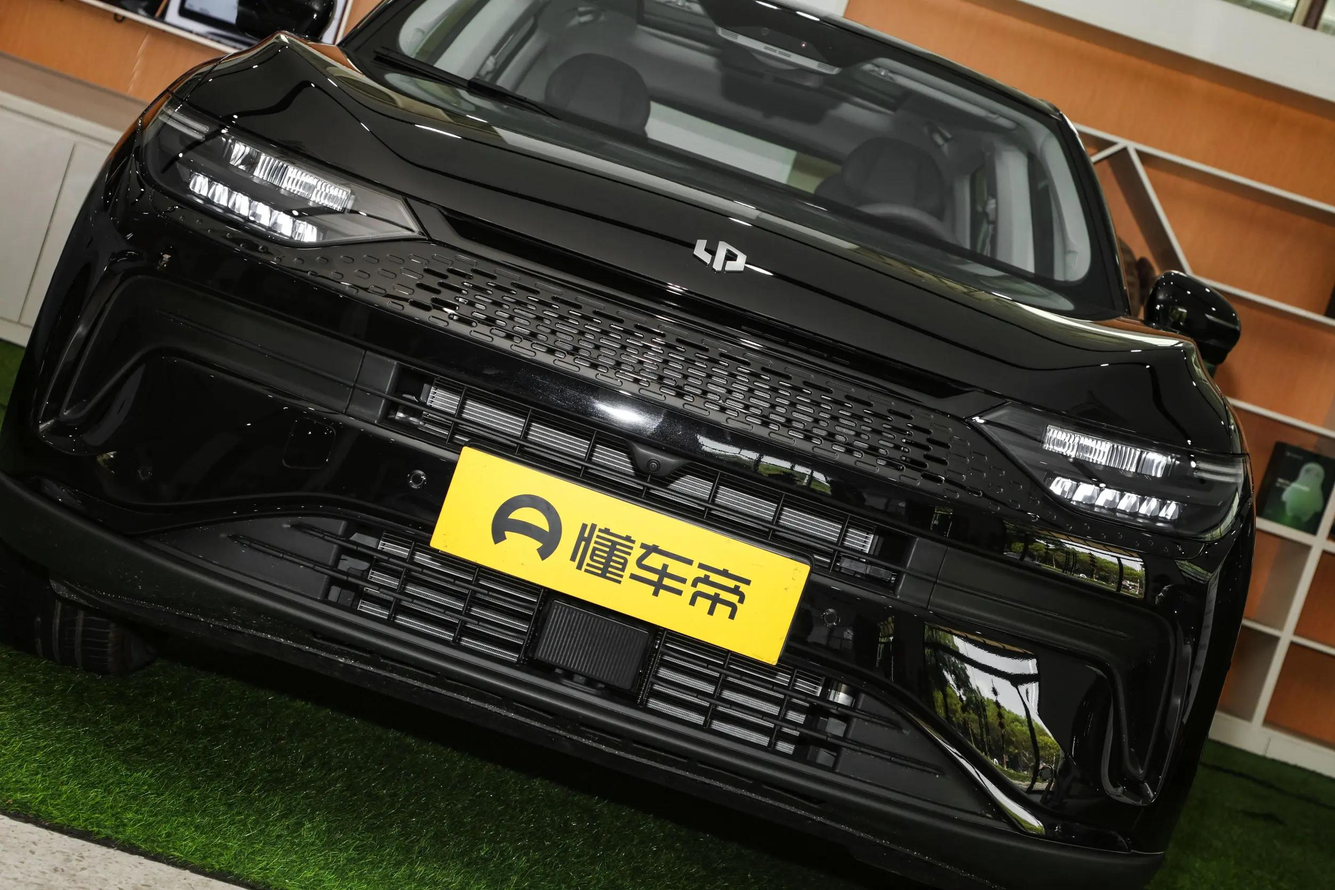LEAPMOTOR: (693, 238, 747, 275)
